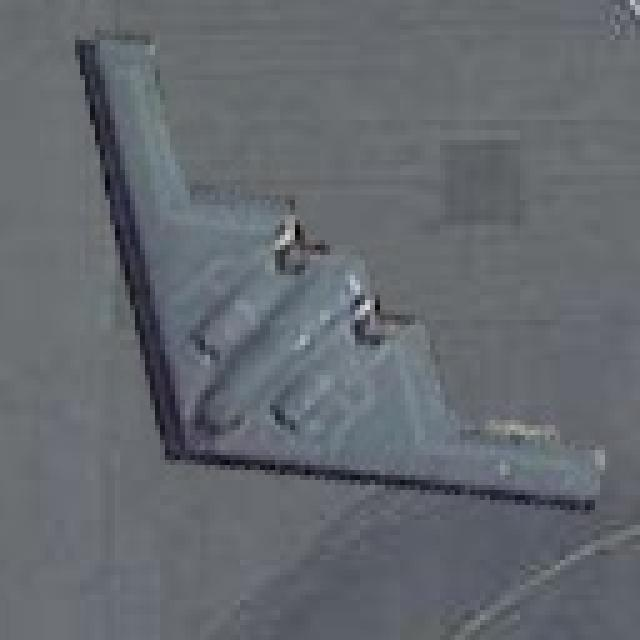B-2_TopDown: (65, 20, 610, 515)
